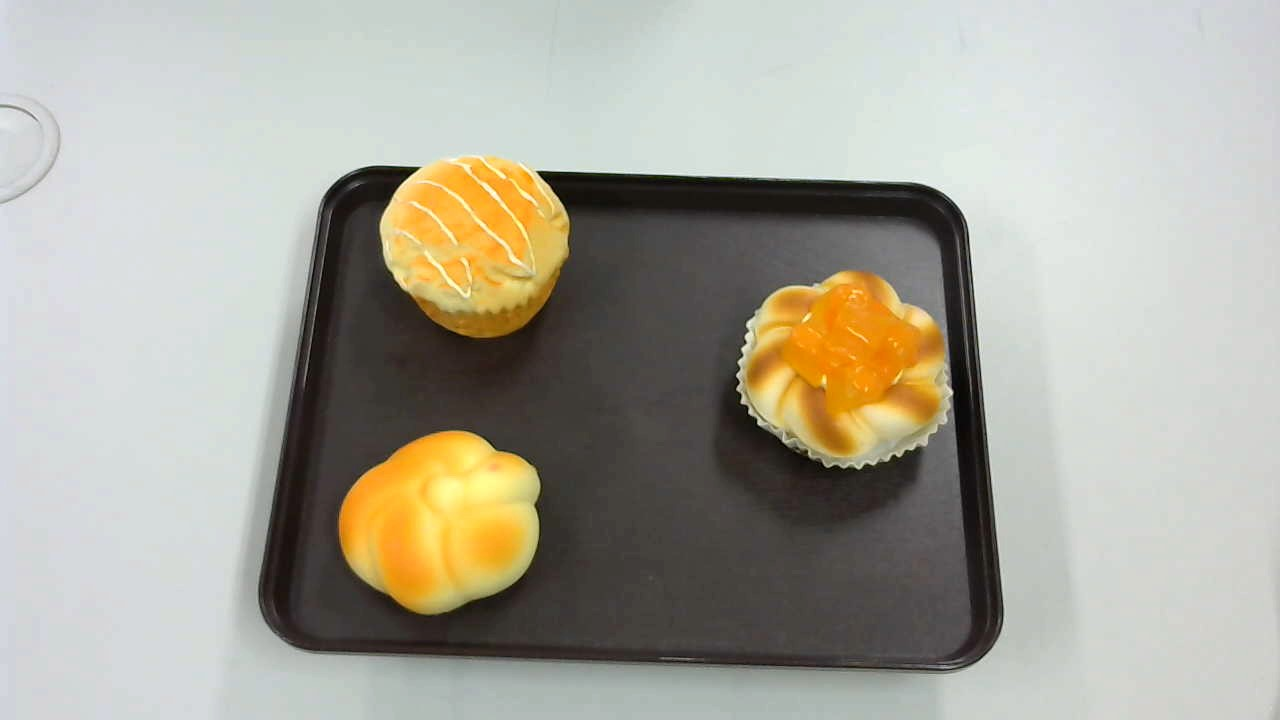croissant: (338, 431, 542, 614)
cupcake: (380, 154, 570, 341)
mango tart: (735, 271, 954, 472)
